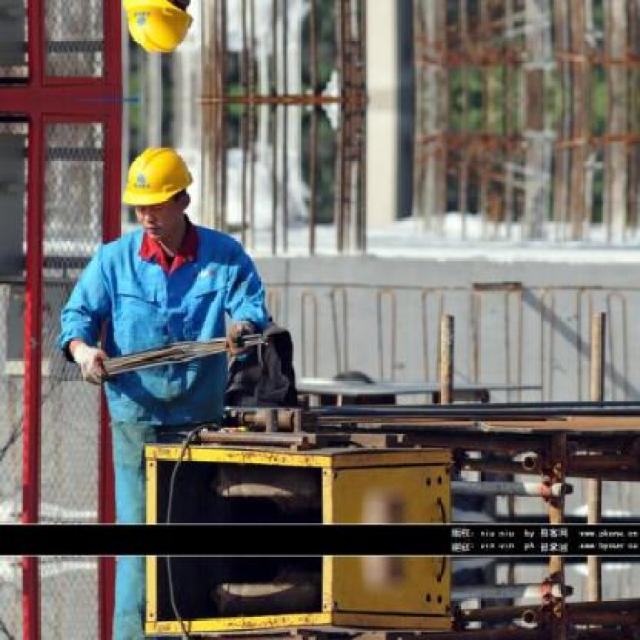helmet: (118, 136, 202, 242), (119, 0, 203, 62)
